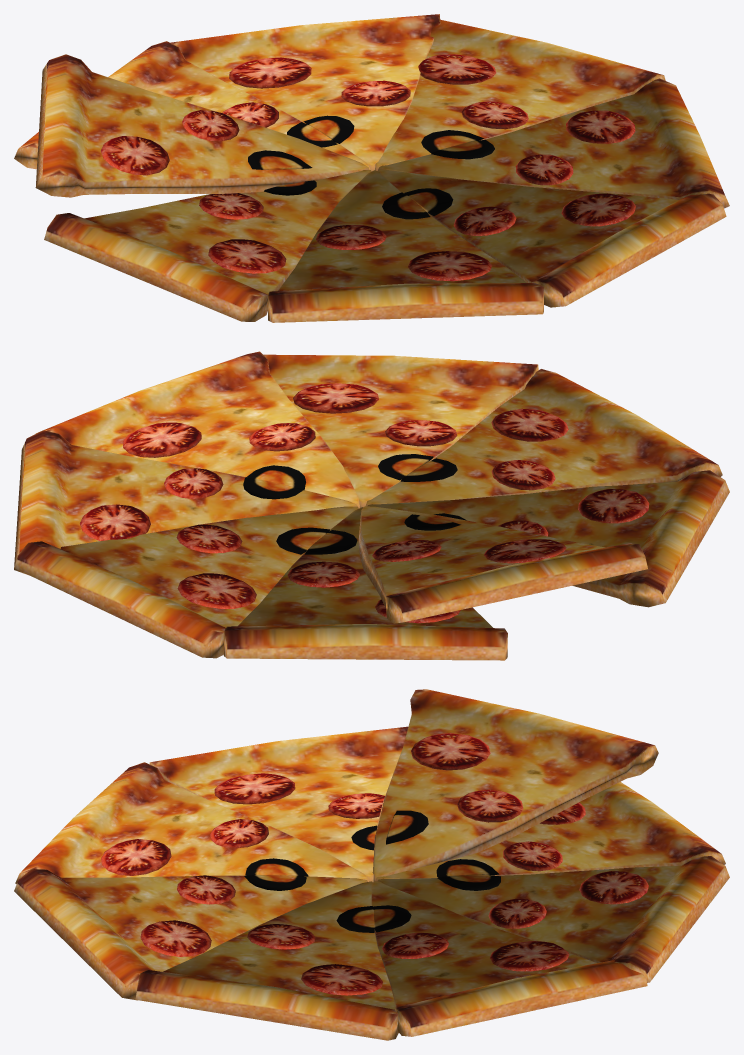
The model's file is pizzafbx.fbx.
3 renders of one model, top to bottom at view 1: azimuth 30°, elevation 25°; view 2: azimuth 150°, elevation 25°; view 3: azimuth 270°, elevation 25°, orthographic. The views are drawn at different scales.
Parts seen in each view (by area): view 1: none_rigged14; view 2: none_rigged14; view 3: none_rigged14.
Boxes of the visible parts, x1,y1,x2,y2 form: none_rigged14: (14, 14, 729, 322); none_rigged14: (14, 351, 729, 660); none_rigged14: (14, 689, 729, 1040).
Bounding box in the file's own units: 6.92 × 0.7287 × 6.93.
1 material, 1 textured.
